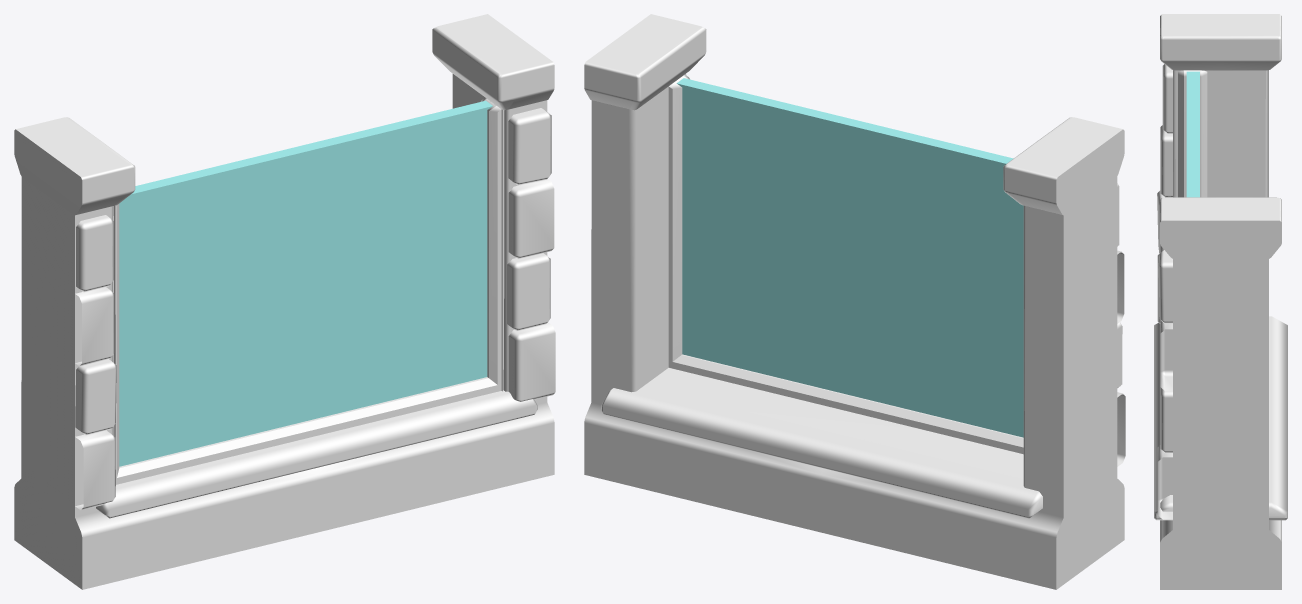
Rendered from wall_brick_window_02_pink.fbx.
The picture shows the model from 3 angles, left to right: view 1: azimuth 30°, elevation 25°; view 2: azimuth 150°, elevation 25°; view 3: azimuth 270°, elevation 25°; orthographic projection. The views are drawn at different scales.
Visible parts, largest first — view 1: wall_brick_window_02_pink, m_city_wall_window_02_glass, brick wall window 02 inside; view 2: m_city_wall_window_02_glass, wall_brick_window_02_pink, brick wall window 02 inside; view 3: wall_brick_window_02_pink, brick wall window 02 inside, m_city_wall_window_02_glass.
Boxes of the visible parts, box(x1,y1,x2,y2) form: wall_brick_window_02_pink: box(14, 14, 555, 589); m_city_wall_window_02_glass: box(119, 100, 492, 466); brick wall window 02 inside: box(21, 74, 502, 485); m_city_wall_window_02_glass: box(676, 78, 1023, 437); wall_brick_window_02_pink: box(584, 14, 1125, 589); brick wall window 02 inside: box(584, 74, 1063, 589); wall_brick_window_02_pink: box(1154, 14, 1287, 589); brick wall window 02 inside: box(1175, 70, 1281, 542); m_city_wall_window_02_glass: box(1186, 71, 1199, 197).
Size of the model in its own units: 2.4 by 2 by 0.6573.
